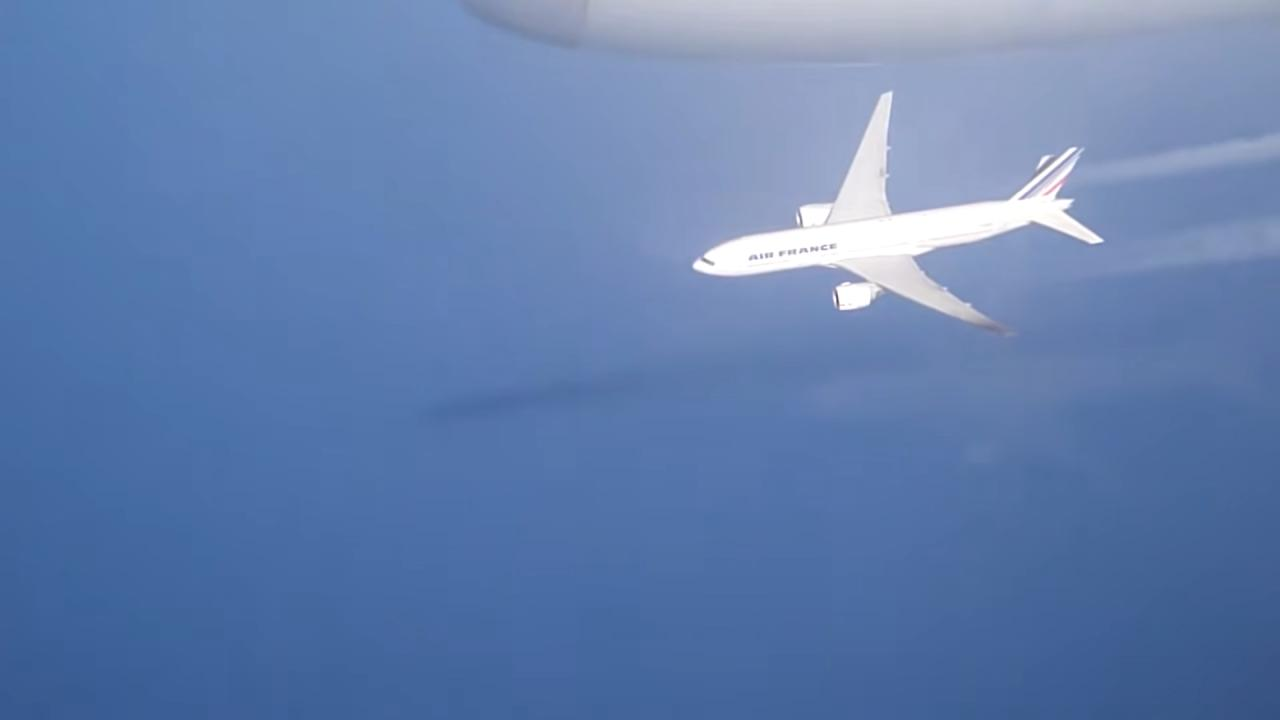Airplane: (670, 75, 1116, 354)
